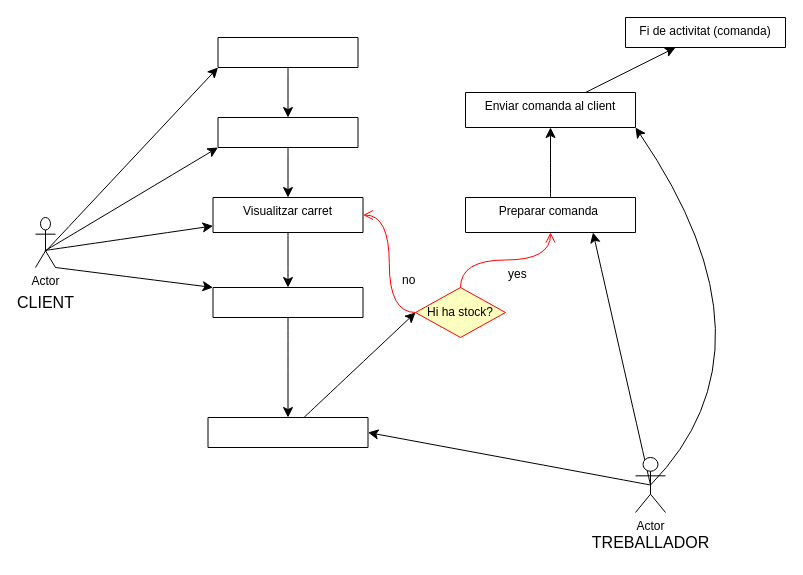
This 803x575 diagram has some shape labels left out. Here are the shapes that lost their labels. From the top down, the centre of each, then its label:
At pixel 287 52: "Fer login".
At pixel 287 132: "Afegir productes al carret".
At pixel 287 302: "Finalitzar compra (pagar)".
At pixel 287 432: "Comprovació de stock".
